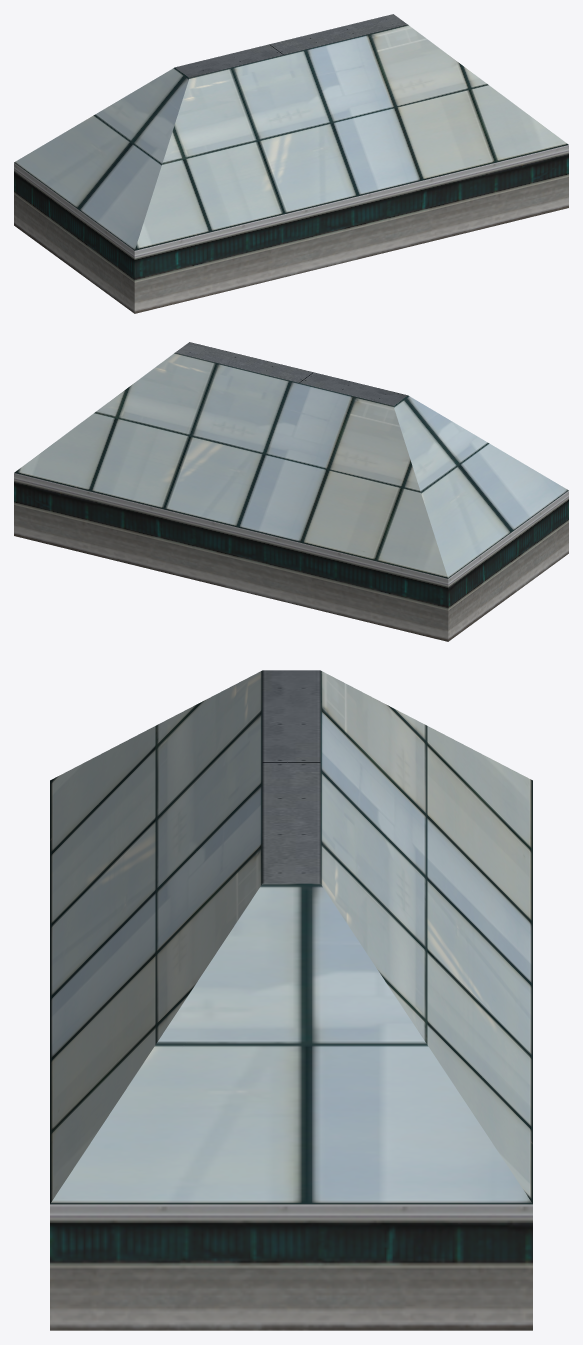
File: roof addon3.FBX
The picture shows the model from 3 angles, top to bottom: view 1: azimuth 30°, elevation 25°; view 2: azimuth 150°, elevation 25°; view 3: azimuth 270°, elevation 25°; orthographic projection. The views are drawn at different scales.
Visible parts, largest first — view 1: roof addon3; view 2: roof addon3; view 3: roof addon3.
Boxes of the visible parts, x1=… form: roof addon3: x1=14, y1=14, x2=568, y2=313; roof addon3: x1=14, y1=342, x2=568, y2=641; roof addon3: x1=50, y1=670, x2=532, y2=1330.
Bounding box in the file's own units: 15.04 × 5.65 × 7.25.
